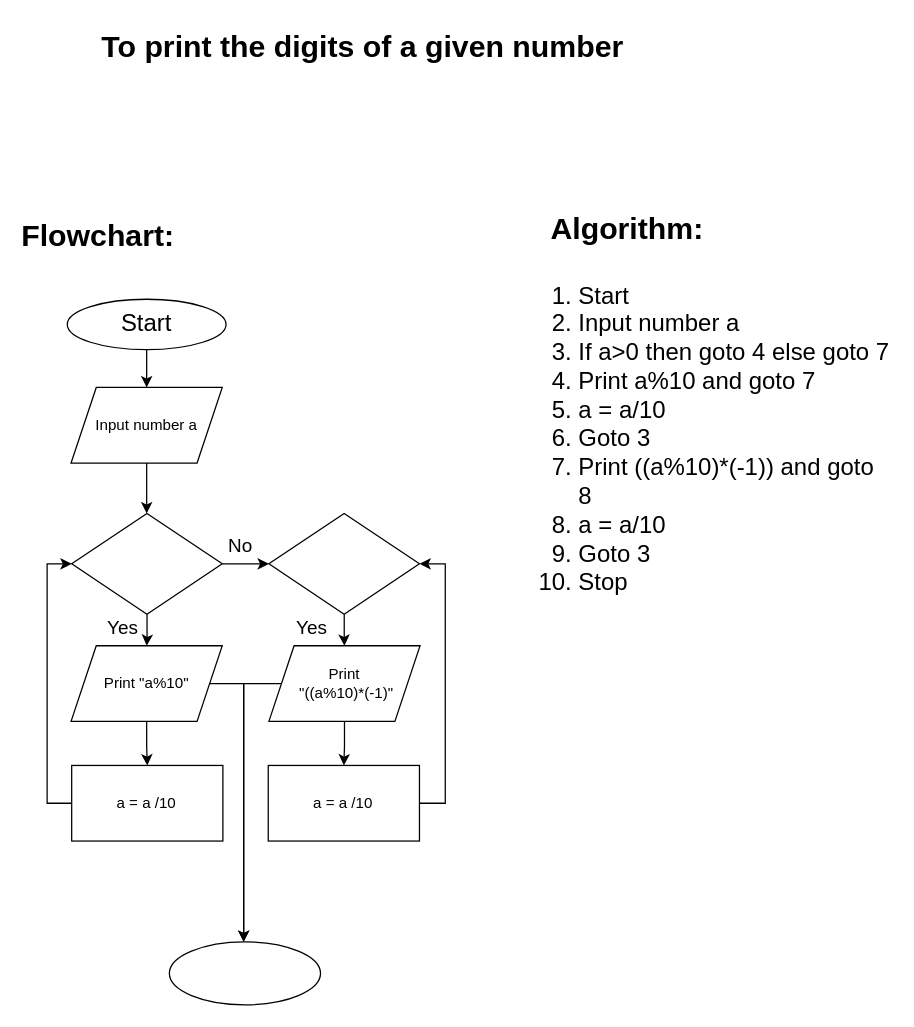
The diagram is 914 pixels wide and 1027 high, and some of its shapes have lost their labels. Each missing label, with the centre of its shape:
"End" belongs at point 244,973.
"if a<0" belongs at point 343,563.
"if a>0" belongs at point 146,563.
